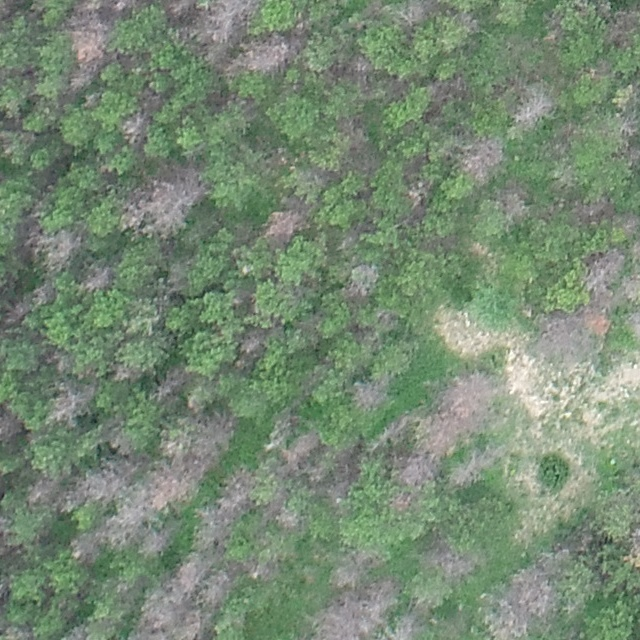unhealthy: (124, 158, 208, 238), (135, 560, 217, 640), (420, 370, 495, 450), (484, 565, 559, 639), (171, 0, 249, 68), (313, 581, 399, 639), (200, 471, 269, 539), (159, 413, 224, 479), (70, 457, 136, 503), (67, 5, 109, 69), (422, 539, 477, 580), (536, 312, 583, 359), (457, 134, 503, 182), (48, 381, 95, 426), (579, 246, 620, 297), (106, 501, 149, 549), (37, 226, 83, 270), (247, 33, 297, 72), (328, 541, 373, 582), (445, 450, 493, 488), (512, 88, 555, 128), (394, 452, 442, 487), (261, 207, 306, 244), (368, 414, 412, 451), (283, 429, 321, 471), (349, 374, 391, 409), (605, 3, 639, 46), (495, 181, 529, 222), (342, 265, 378, 302), (156, 364, 192, 400), (570, 195, 613, 225), (68, 530, 103, 566), (585, 303, 621, 336), (26, 473, 60, 507), (236, 328, 268, 364), (429, 74, 469, 102), (120, 110, 151, 145), (147, 528, 179, 559), (612, 75, 638, 113), (81, 263, 114, 292), (264, 406, 286, 449), (400, 611, 434, 638), (0, 407, 22, 444), (406, 177, 433, 206), (400, 0, 430, 26), (3, 299, 31, 325), (615, 113, 638, 144), (108, 361, 140, 383), (627, 520, 640, 571), (389, 490, 415, 514), (621, 270, 639, 304), (347, 54, 372, 78), (66, 70, 93, 92), (31, 280, 55, 304), (457, 11, 482, 33), (624, 145, 640, 179), (61, 621, 91, 639), (619, 211, 640, 236), (625, 305, 639, 342), (276, 507, 298, 528), (4, 625, 36, 639)
